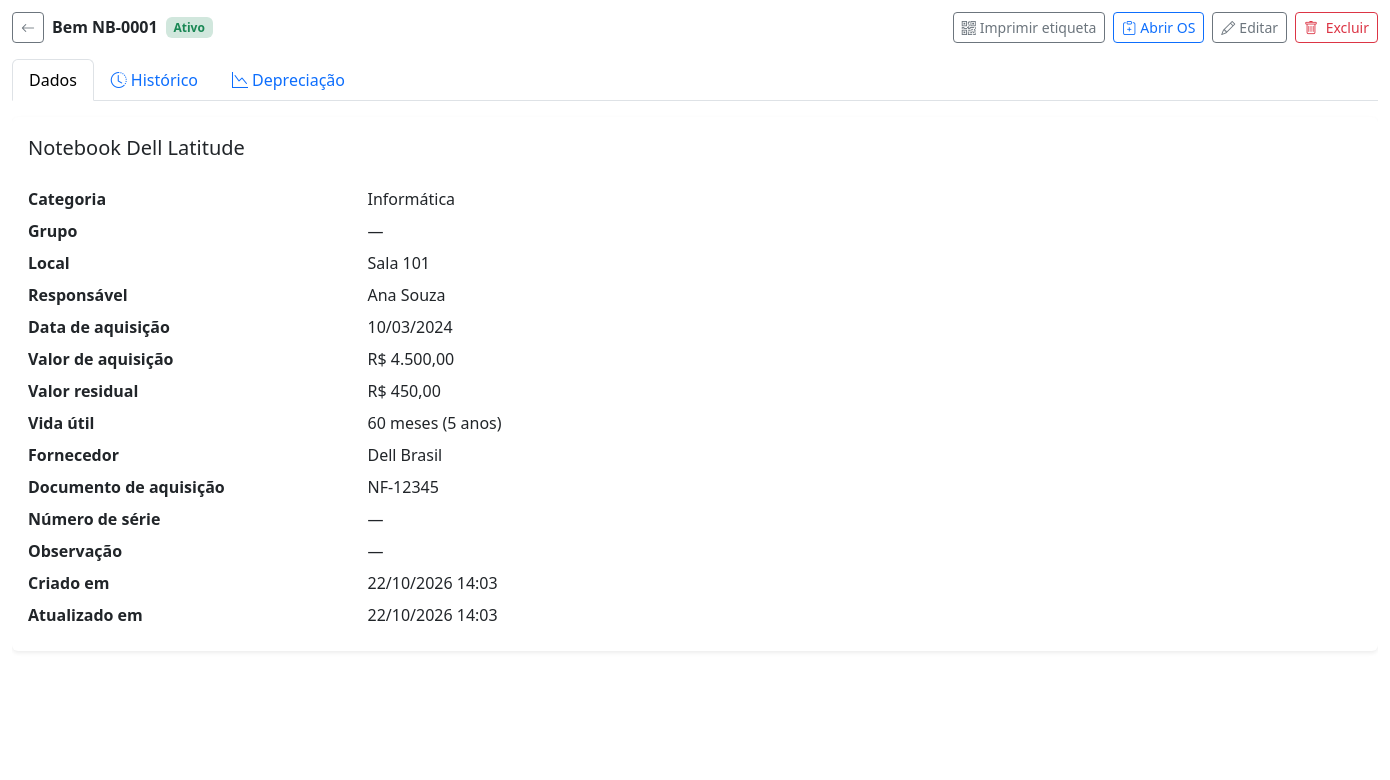
ImobBemDetalheComponent › abas › abre em Dados e só consulta o histórico ao abrir a aba
Click the tab with id "abaHistorico".
click(154, 80)  # box [94,59,215,101]
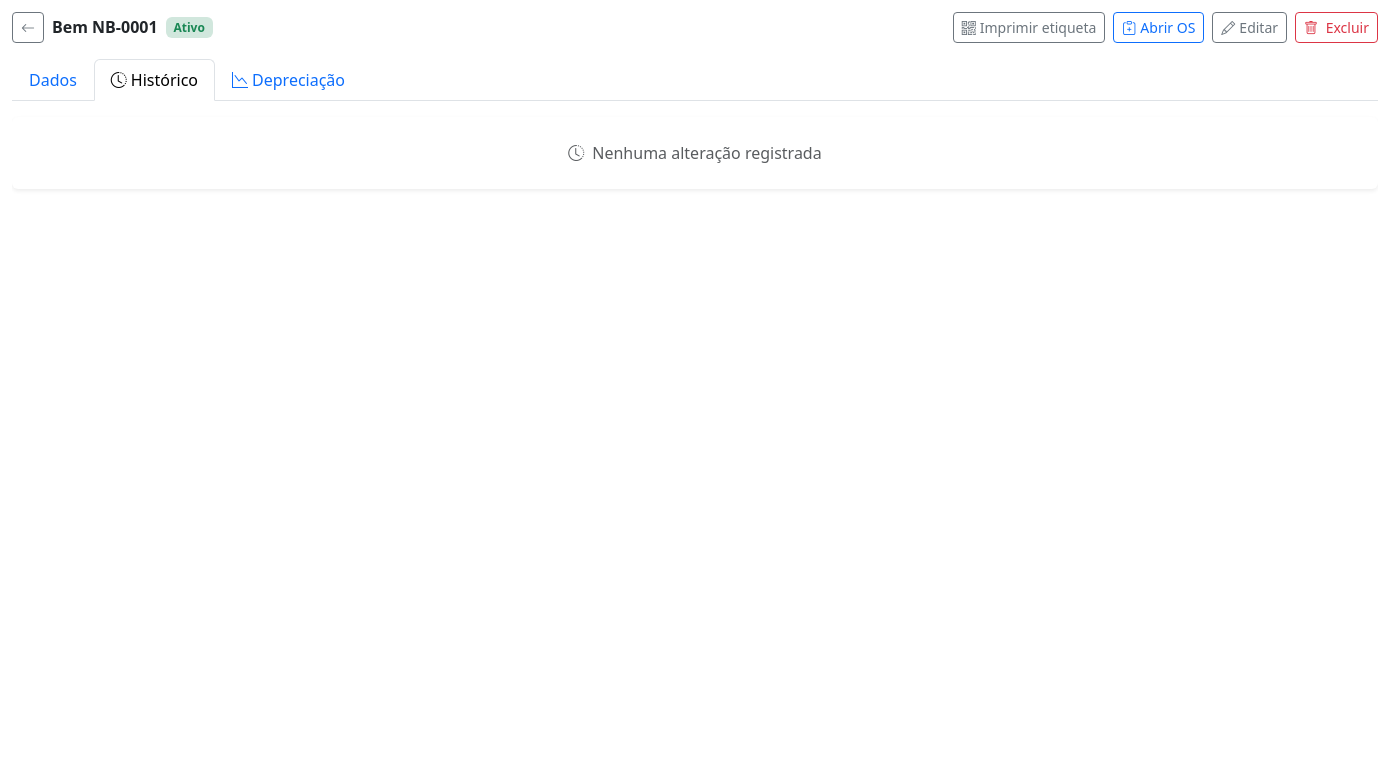
Result: the text "Nenhuma alteração registrada" is shown at [568,142,822,164]
